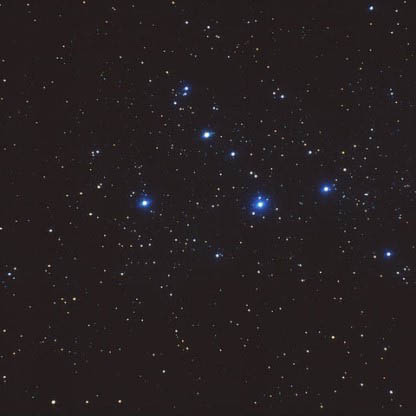Cassiopeia: (194, 119, 241, 168), (242, 186, 277, 220), (134, 188, 157, 217), (374, 240, 397, 266), (315, 179, 335, 204)
